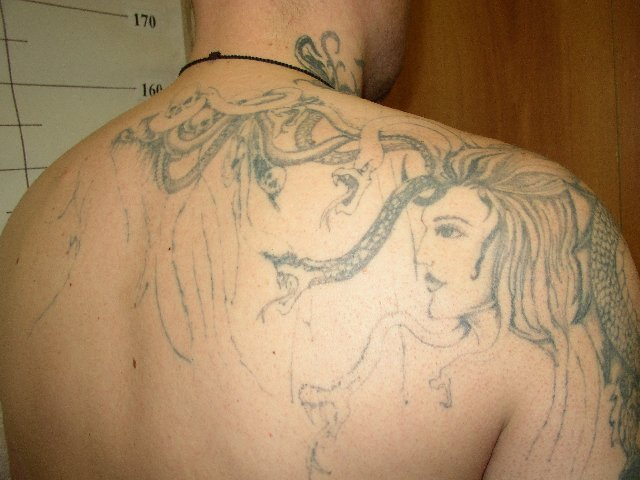tatu7_zmeya: (117, 51, 627, 430)
